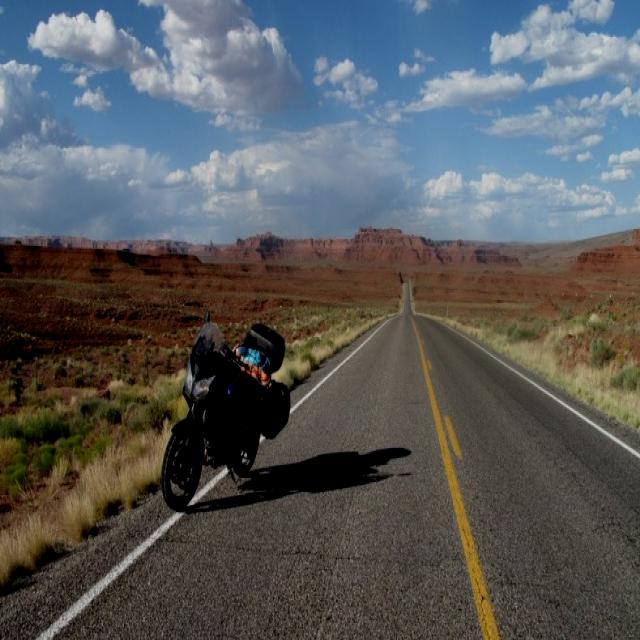MOTORCYCLE: (166, 323, 273, 488)
